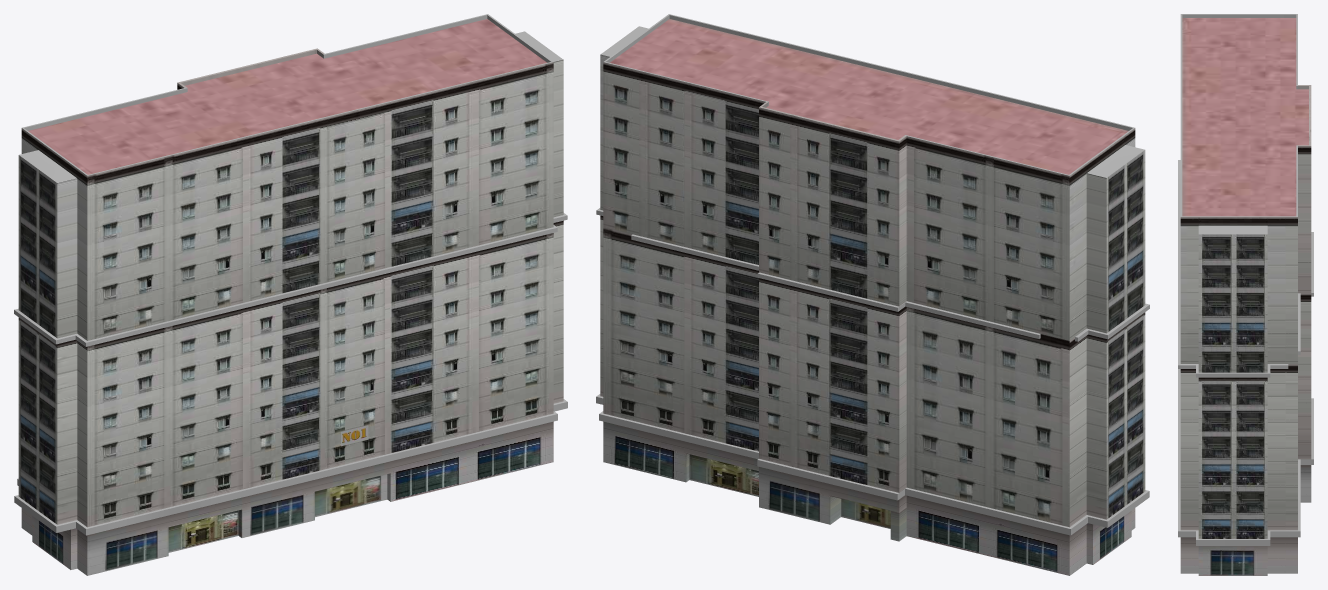
The picture shows the model from 3 angles, left to right: view 1: azimuth 30°, elevation 25°; view 2: azimuth 150°, elevation 25°; view 3: azimuth 270°, elevation 25°; orthographic projection. The views are drawn at different scales.
Visible parts, largest first — view 1: HN846_ChungCuN01YenHoa; view 2: HN846_ChungCuN01YenHoa; view 3: HN846_ChungCuN01YenHoa.
Part boxes in pixels (x1=…): HN846_ChungCuN01YenHoa: x1=14, y1=14, x2=567, y2=575; HN846_ChungCuN01YenHoa: x1=596, y1=14, x2=1149, y2=575; HN846_ChungCuN01YenHoa: x1=1178, y1=14, x2=1313, y2=575.
Size of the model in its own units: 60.37 by 45.08 by 15.57.
1 material, 1 textured.
